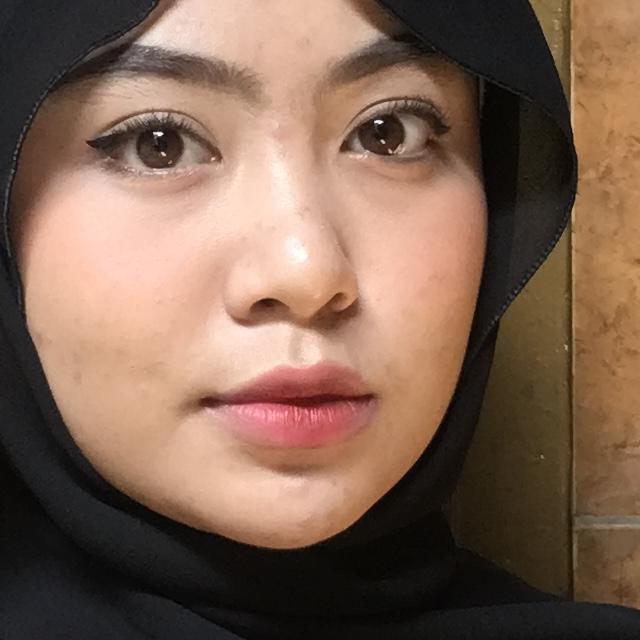ibu: (0, 136, 220, 640)
